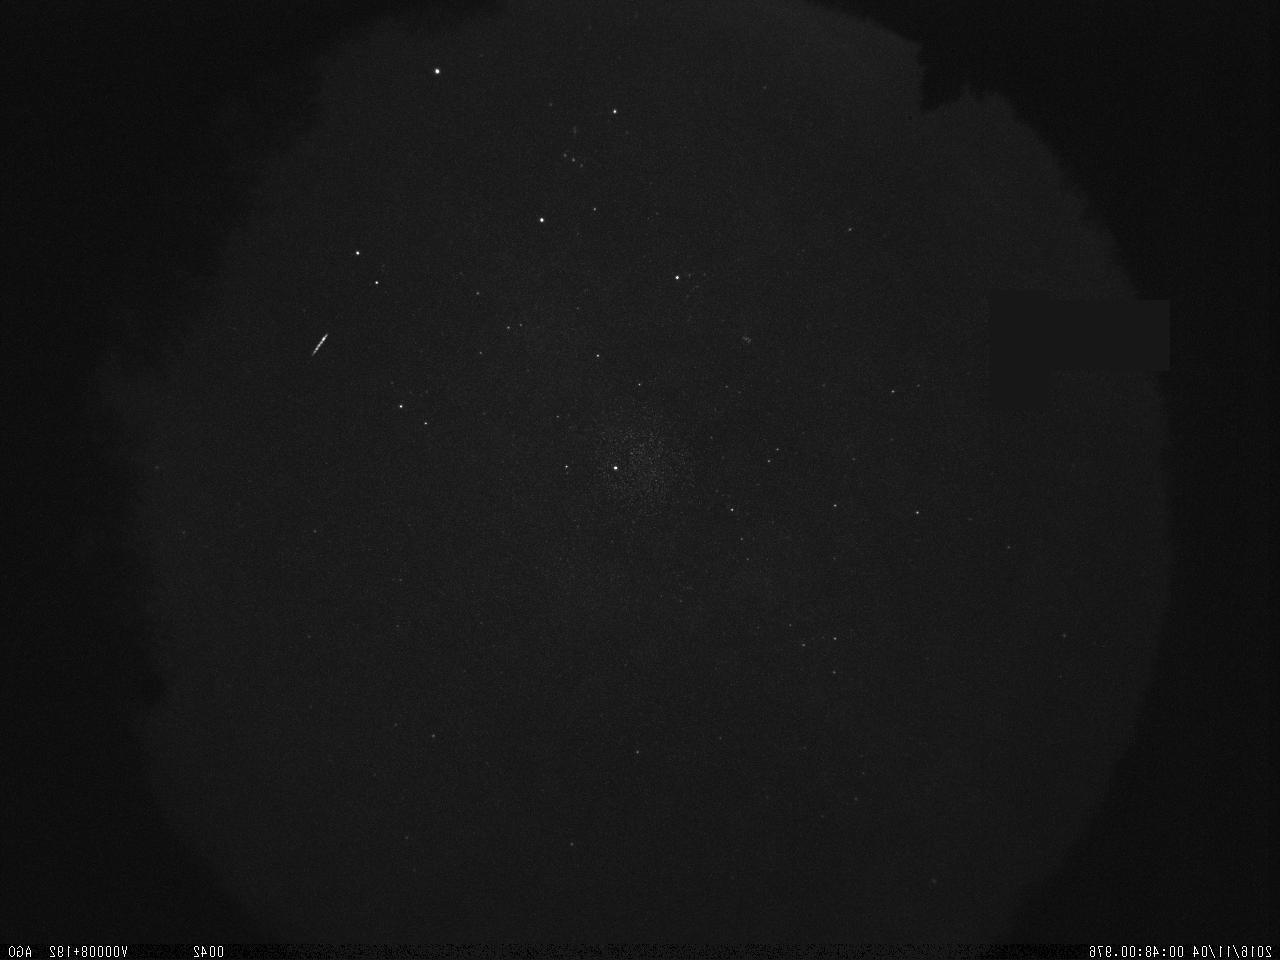meteor: (288, 301, 354, 371)
